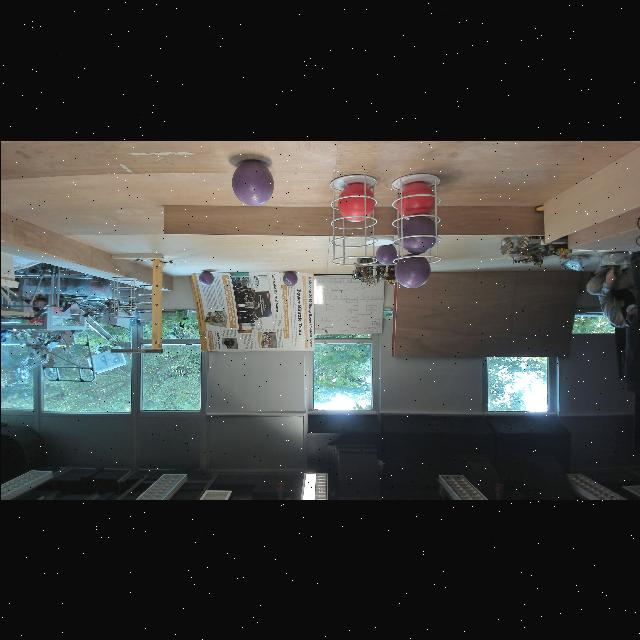P: (231, 160, 273, 206), (398, 215, 437, 253), (394, 252, 430, 288), (374, 243, 396, 264), (282, 270, 296, 286), (198, 271, 212, 285)
R: (396, 181, 434, 219), (338, 182, 374, 222)
S: (390, 171, 442, 265), (327, 172, 378, 266), (110, 276, 136, 318), (136, 284, 156, 320)
